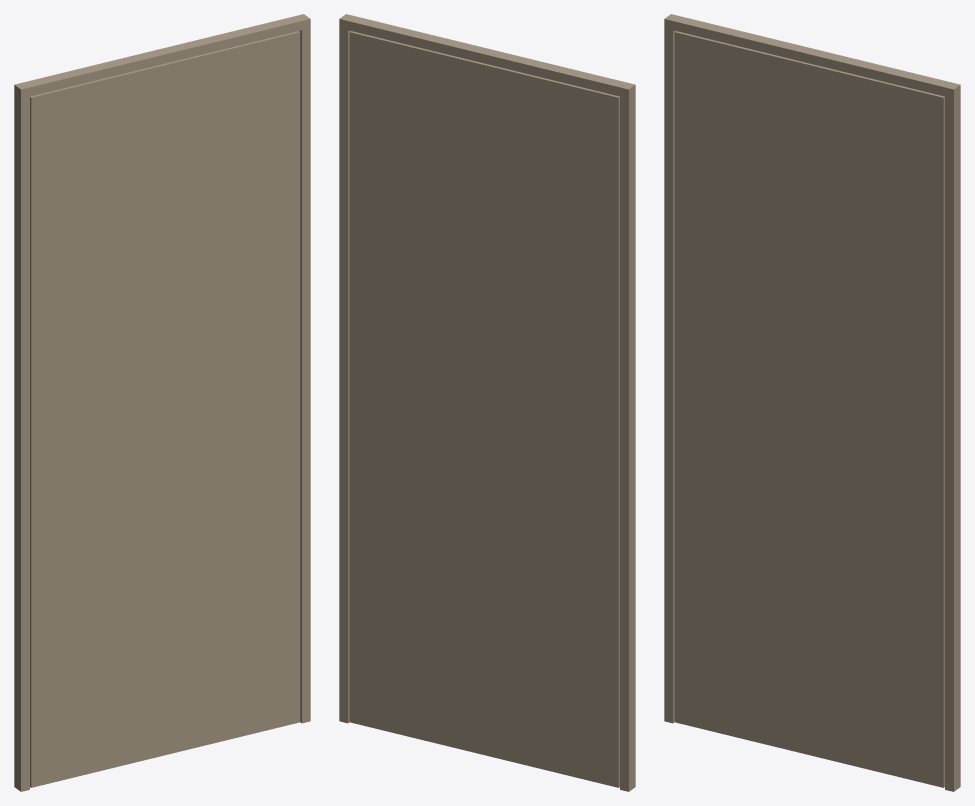
File: puerta ppal.fbx
3 renders of one model, left to right at view 1: azimuth 30°, elevation 25°; view 2: azimuth 150°, elevation 25°; view 3: azimuth 330°, elevation 25°, orthographic.
Visible parts, largest first — view 1: Door002, Frame001; view 2: Door002, Frame001; view 3: Door002, Frame001.
Boxes of the visible parts, x1,y1,x2,y2 form: Door002: (30,31,300,787); Frame001: (14,14,310,791); Door002: (349,31,619,787); Frame001: (339,14,635,791); Door002: (674,31,944,787); Frame001: (664,14,960,791).
Size of the model in its own units: 48.88 by 113 by 1.97.
